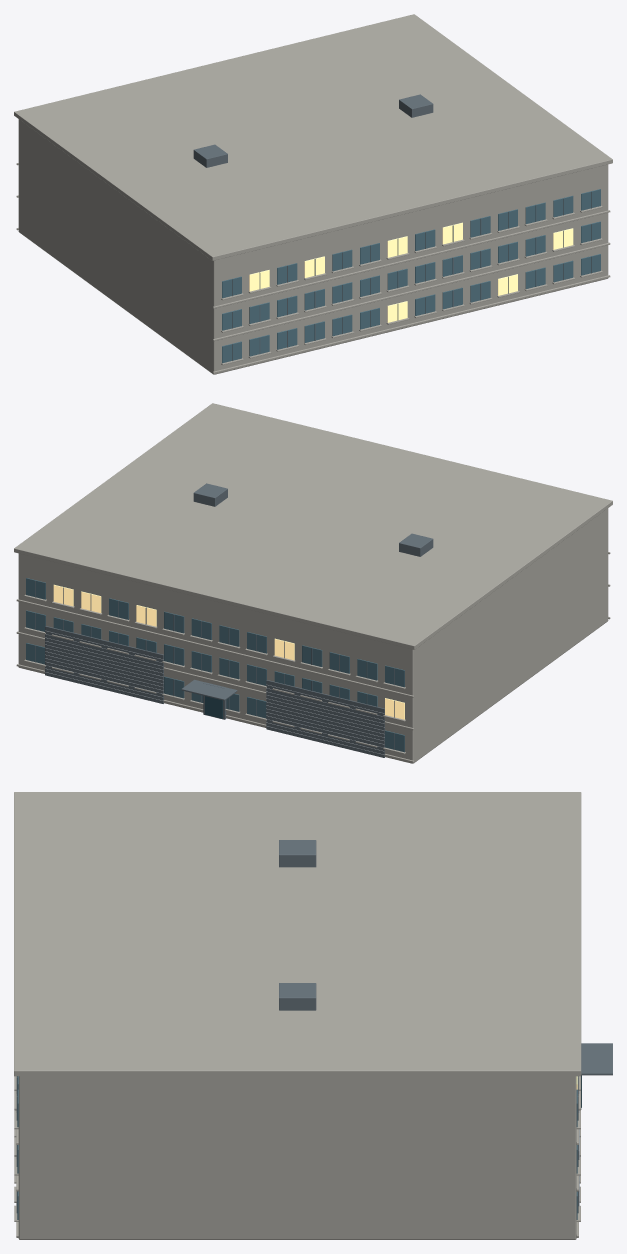
The model's file is Hangar.fbx.
3 renders of one model, top to bottom at view 1: azimuth 30°, elevation 25°; view 2: azimuth 150°, elevation 25°; view 3: azimuth 270°, elevation 25°, orthographic. The views are drawn at different scales.
Parts seen in each view (by area): view 1: Body.037; view 2: Body.037; view 3: Body.037.
Boxes of the visible parts, x1=… form: Body.037: x1=14, y1=14, x2=612, y2=374; Body.037: x1=14, y1=403, x2=612, y2=763; Body.037: x1=14, y1=792, x2=612, y2=1239.
Size of the model in its own units: 42.6 by 13.1 by 38.65.
